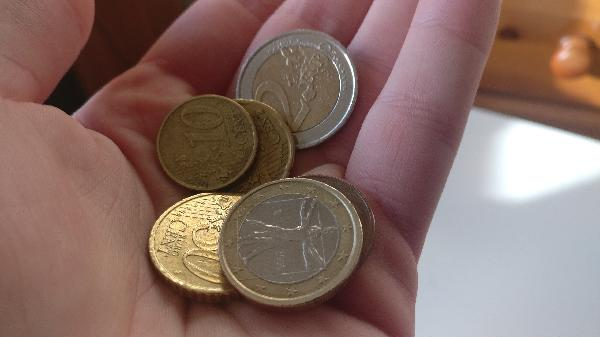Fifty Cent: (147, 192, 246, 305)
One Euro: (221, 178, 355, 310)
Ten Cent: (154, 95, 257, 194)
Twenty Cent: (216, 94, 300, 182)
Two Euro: (230, 27, 358, 149)
